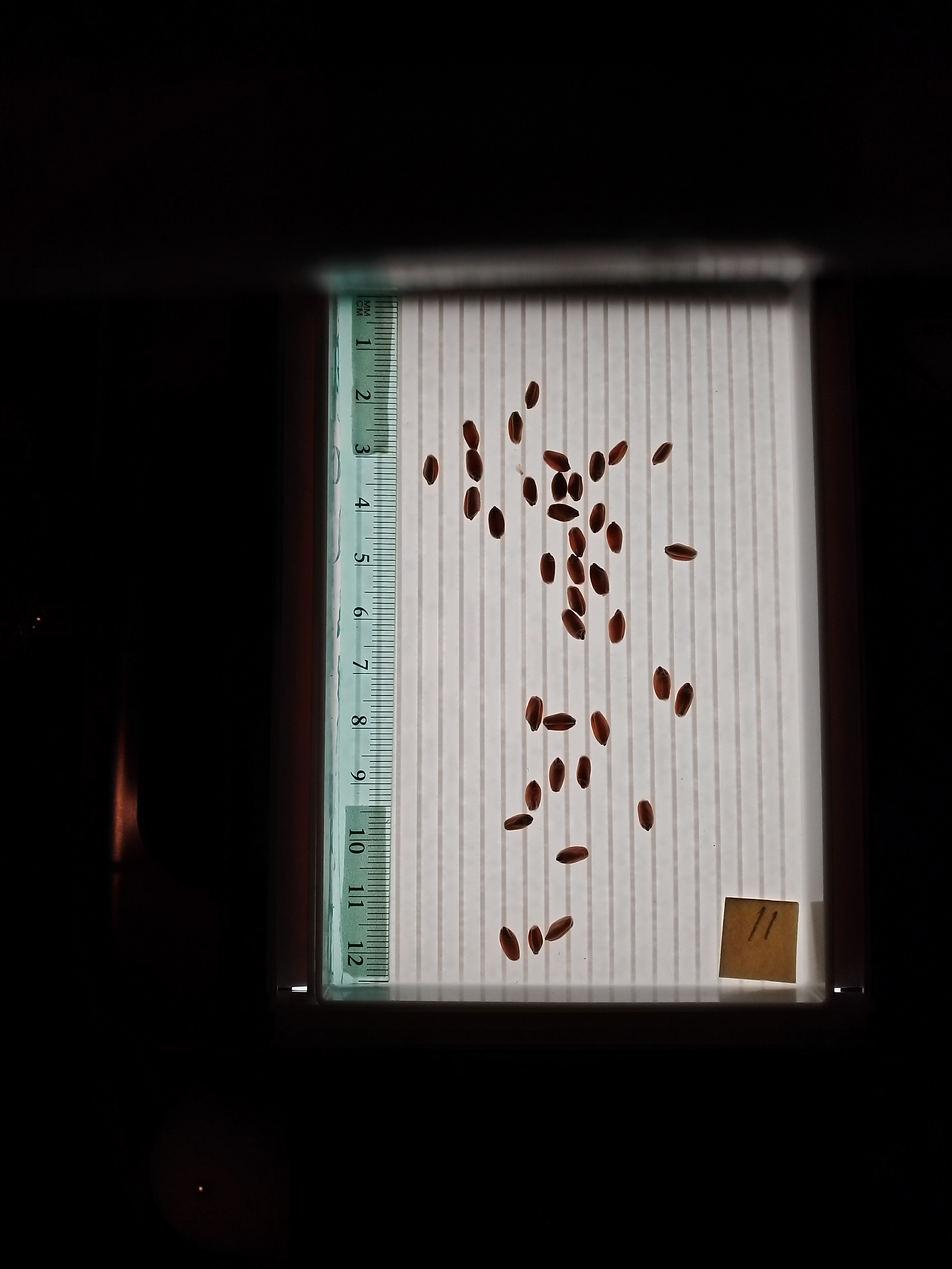seed mask: (499, 928, 520, 961), (562, 610, 585, 639), (547, 916, 572, 942), (544, 713, 575, 732), (526, 697, 543, 731), (665, 544, 697, 562), (675, 684, 693, 716), (590, 565, 609, 595), (592, 712, 609, 745), (557, 846, 588, 864), (488, 507, 505, 539), (548, 504, 578, 522), (609, 611, 625, 644), (549, 759, 565, 792), (544, 451, 569, 472), (567, 555, 585, 584), (608, 440, 628, 466), (464, 488, 480, 520), (654, 668, 670, 700), (466, 450, 483, 480), (567, 587, 585, 615), (607, 523, 623, 554), (576, 756, 591, 789), (525, 782, 542, 811), (508, 412, 523, 444), (638, 800, 654, 830), (462, 421, 479, 449), (423, 456, 439, 485), (589, 452, 605, 481), (589, 504, 605, 533), (569, 527, 585, 556), (652, 442, 672, 465), (505, 814, 532, 831), (540, 554, 555, 584), (522, 477, 537, 505), (525, 382, 540, 409), (568, 473, 583, 499), (529, 927, 543, 953), (551, 475, 566, 498)
